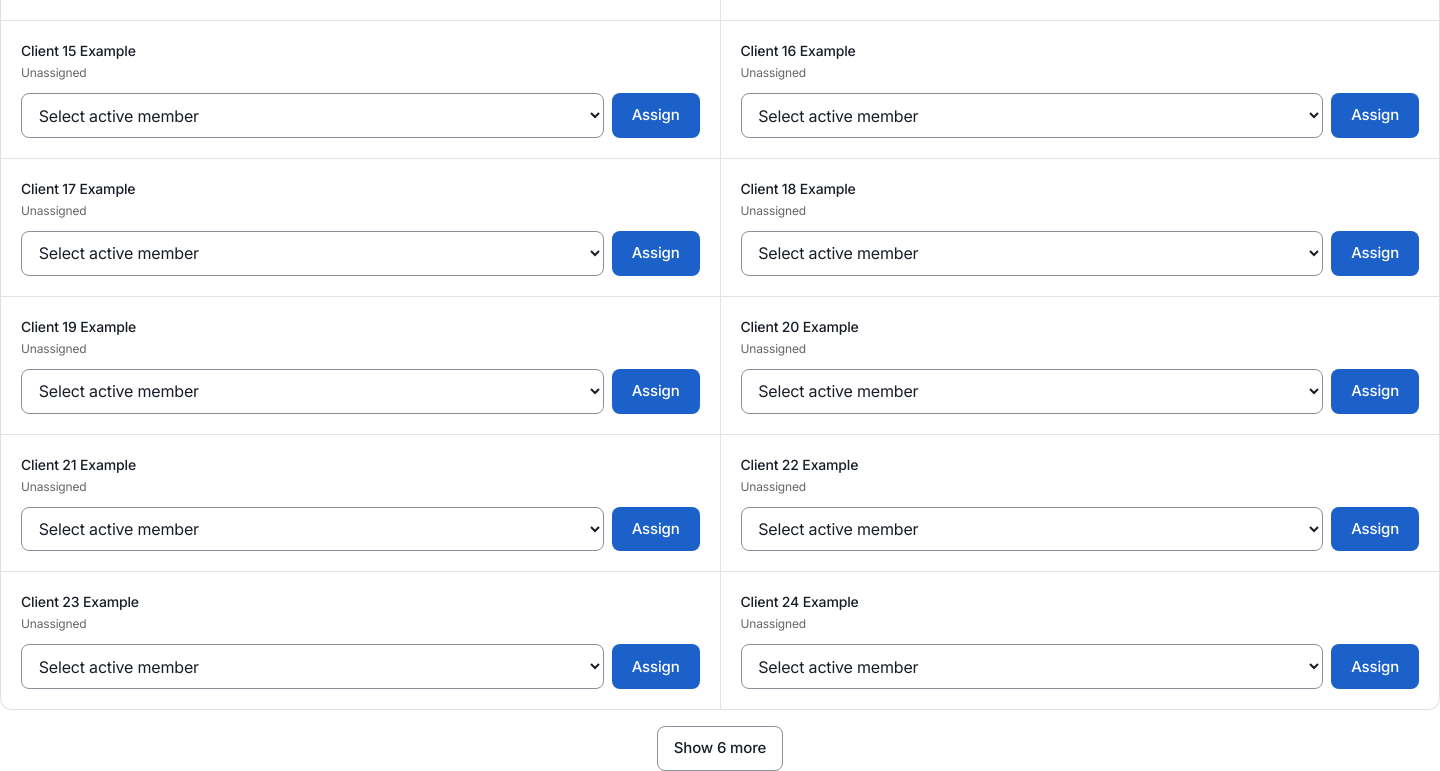
Test: WorkspaceAssignmentPanel › keeps large workspaces bounded and supports search plus progressive disclosure
(page scrolled)
Click the button "Show 6 more": (720,748) [657, 726, 783, 770]
(page scrolled)
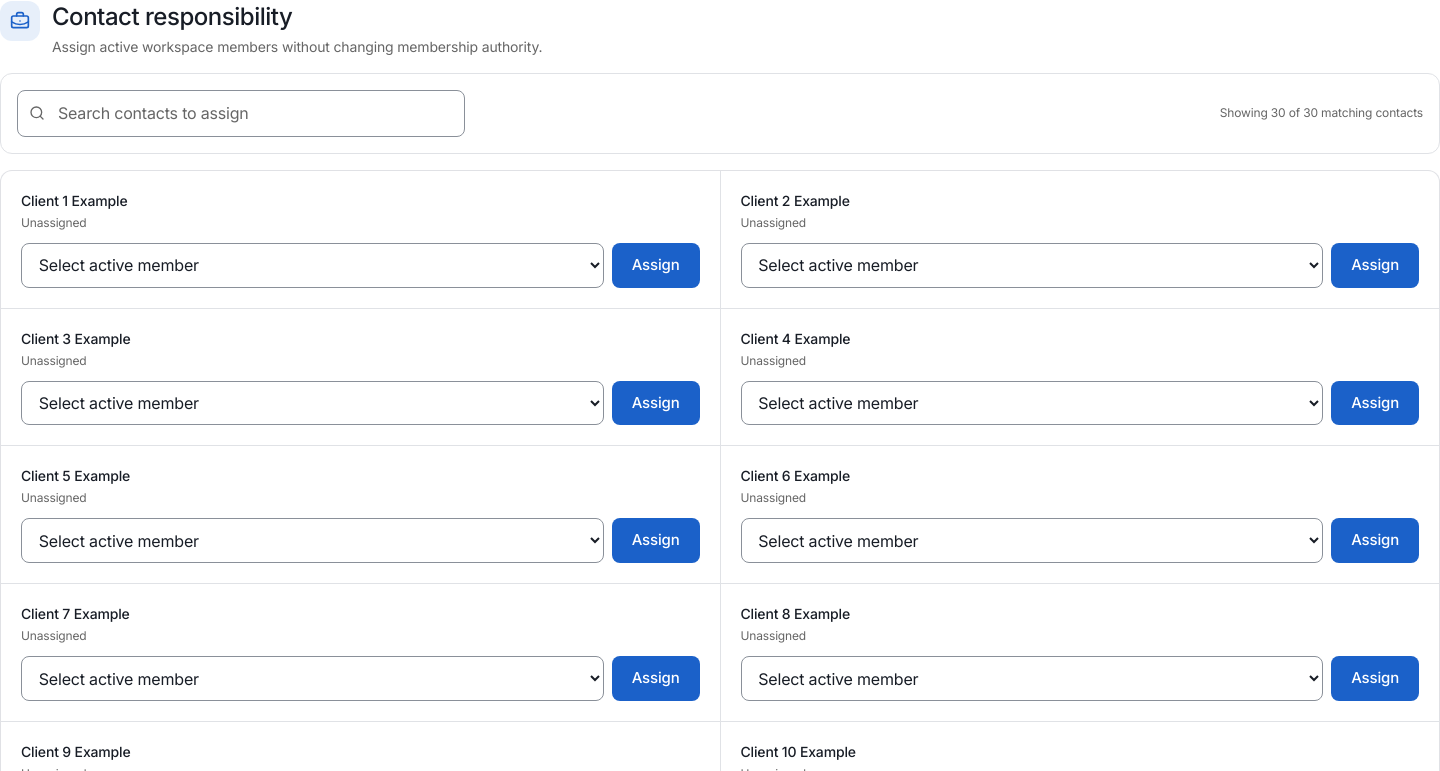
In the search field labelled "Search contacts to assign": (241,113) [17, 90, 465, 137], type "Client 30"
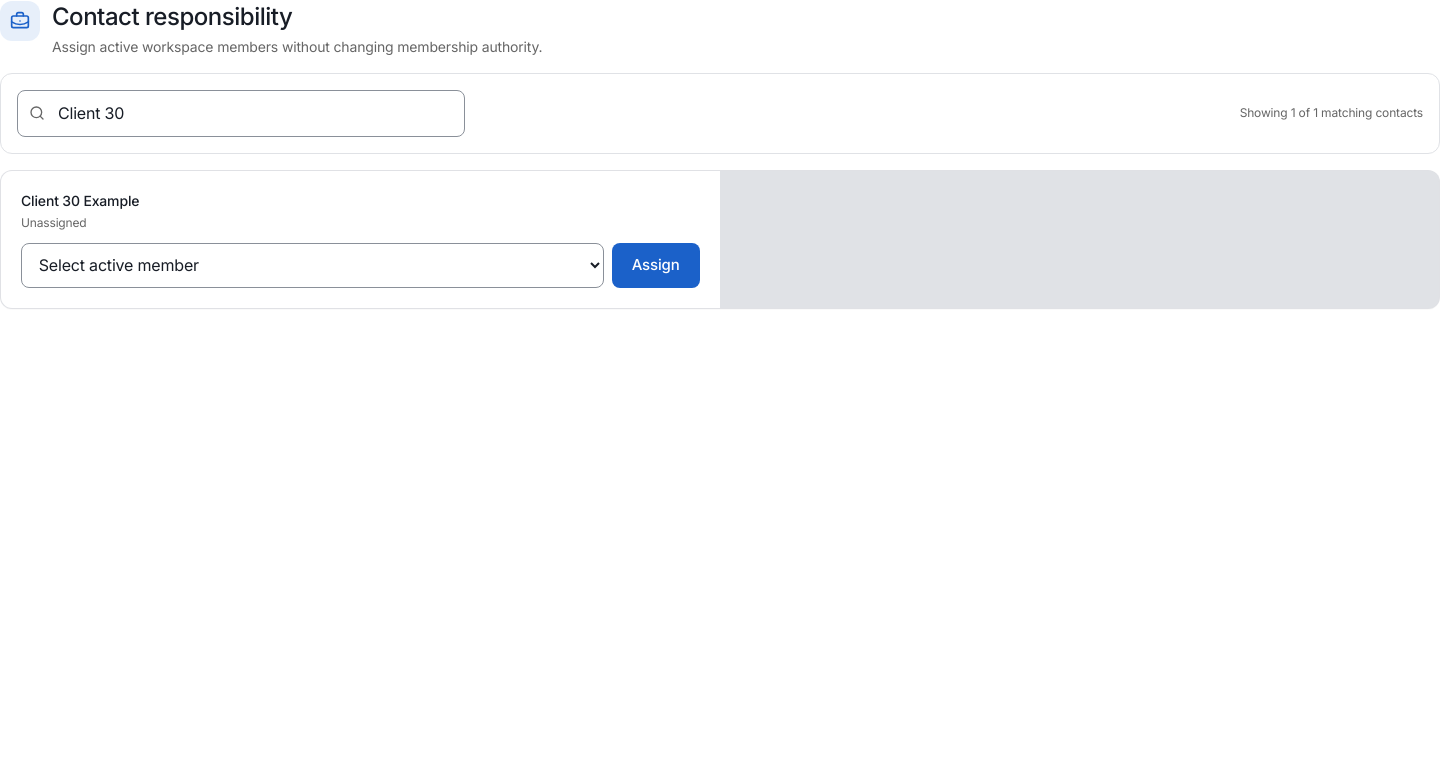
Check: the text "Client 30 Example" is shown, box [21, 192, 139, 209]
Check: the text "Showing 1 of 1 matching contacts" is shown, box [1240, 105, 1423, 121]
Check: the text "Client 1 Example" is gone
